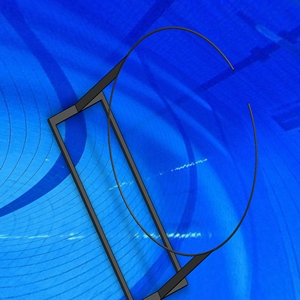circle: (47, 24, 259, 299)
